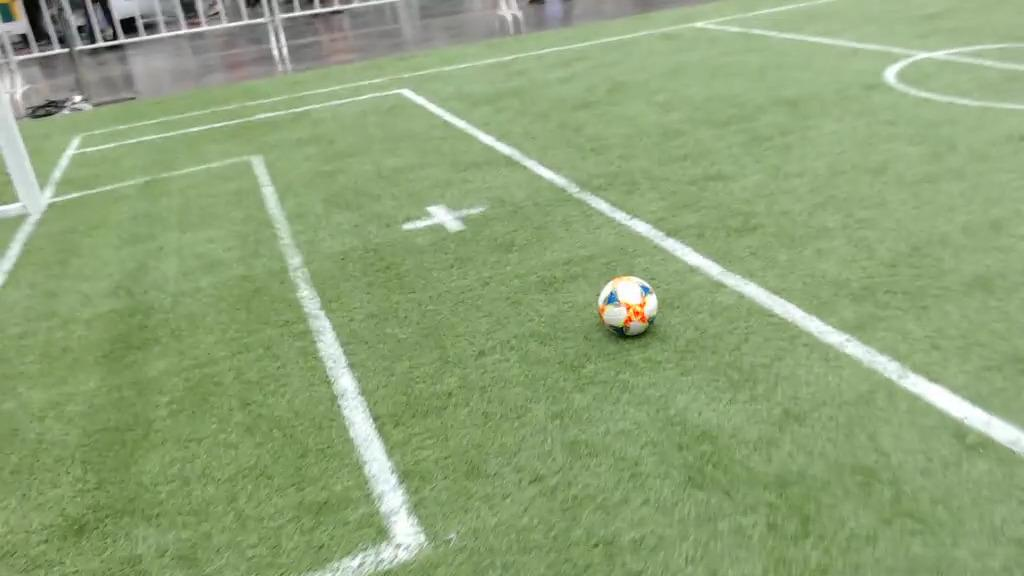ball: (599, 276, 656, 337)
